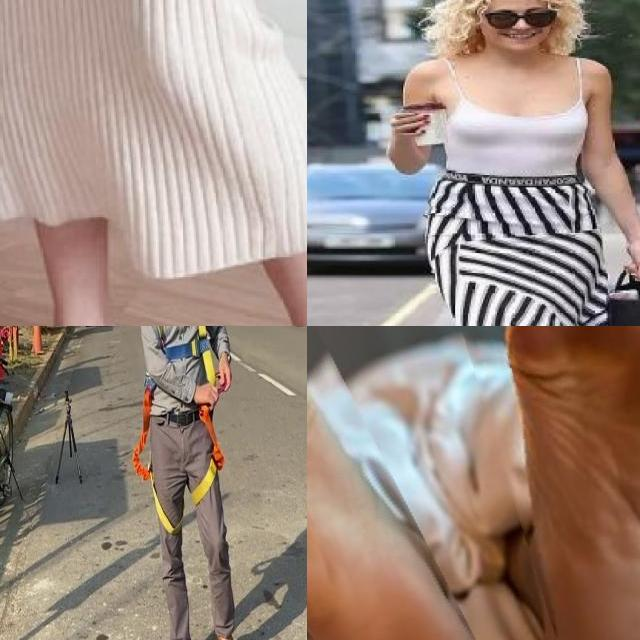Barefoots: (508, 326, 640, 640), (307, 400, 477, 640)
Harness: (132, 378, 182, 536), (192, 406, 225, 506), (160, 326, 215, 384)
face_nomask: (474, 6, 556, 53)
glasses: (481, 2, 559, 34)
hand_noglove: (386, 111, 431, 135), (621, 244, 640, 282)
person: (349, 0, 640, 326)
